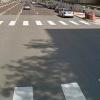Crosswalk: (2, 13, 83, 41)
